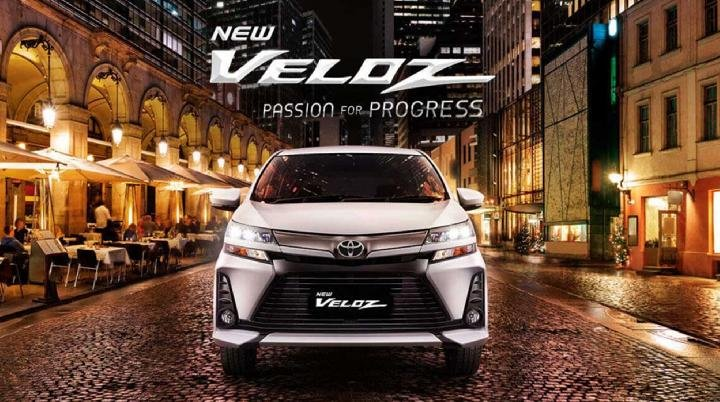mobil: (203, 143, 496, 375)
